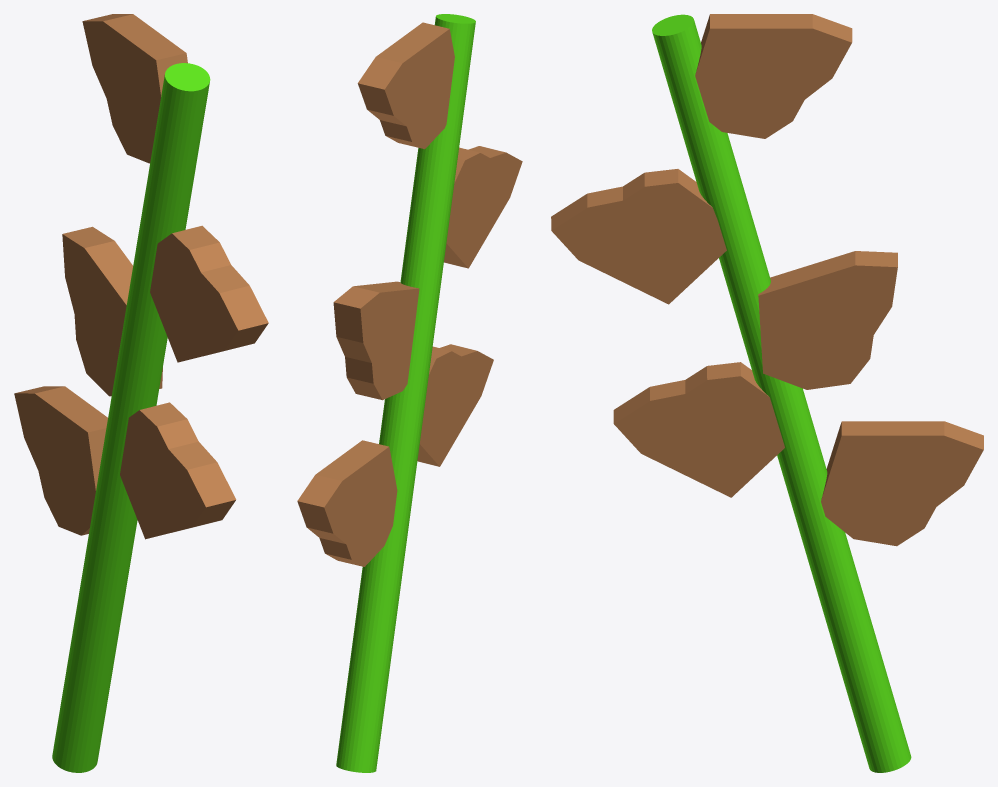
Rendered from wheat.fbx.
3 views of the same model, side by side, from view 1: azimuth 30°, elevation 25°; view 2: azimuth 150°, elevation 25°; view 3: azimuth 270°, elevation 25° (orthographic). The views are drawn at different scales.
Parts seen in each view (by area): view 1: Cylinder, Plane.003, Plane.004, Plane.002, Plane, Plane.001; view 2: Cylinder, Plane.002, Plane, Plane.001, Plane.003, Plane.004; view 3: Cylinder, Plane.002, Plane.003, Plane.001, Plane.004, Plane.
Boxes of the visible parts, x1,y1,x2,y2 form: Cylinder: [52, 63, 210, 772]; Plane.003: [150, 225, 268, 362]; Plane.004: [120, 402, 236, 539]; Plane.002: [14, 386, 107, 535]; Plane: [82, 14, 187, 163]; Plane.001: [62, 226, 162, 396]; Cylinder: [336, 14, 475, 772]; Plane.002: [297, 440, 397, 566]; Plane: [357, 22, 454, 149]; Plane.001: [333, 281, 419, 400]; Plane.003: [444, 146, 522, 268]; Plane.004: [417, 344, 493, 466]; Cylinder: [652, 14, 911, 772]; Plane.002: [821, 421, 983, 546]; Plane.003: [551, 169, 726, 304]; Plane.001: [758, 251, 897, 389]; Plane.004: [613, 362, 784, 497]; Plane: [695, 14, 852, 138].
Size of the model in its own units: 19.2 by 341 by 179.
